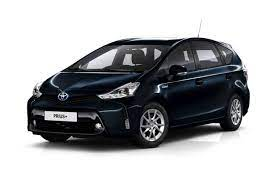Toyota: (27, 40, 241, 138)
